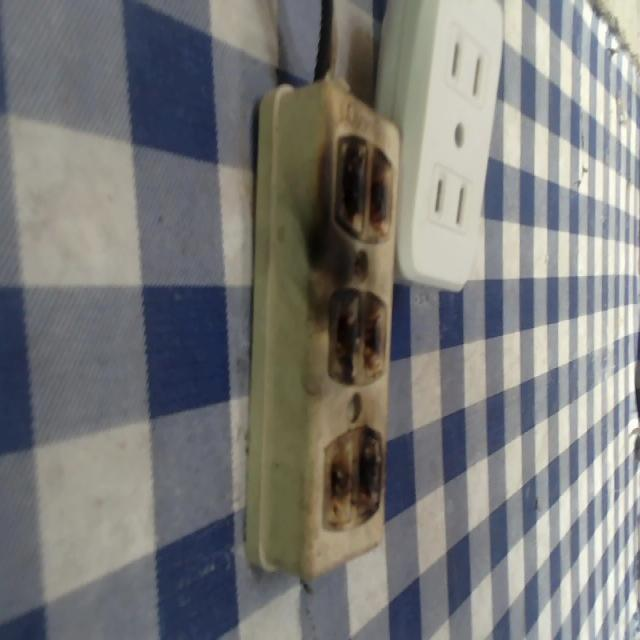-: (330, 128, 398, 244), (321, 420, 385, 528), (324, 284, 389, 385)
